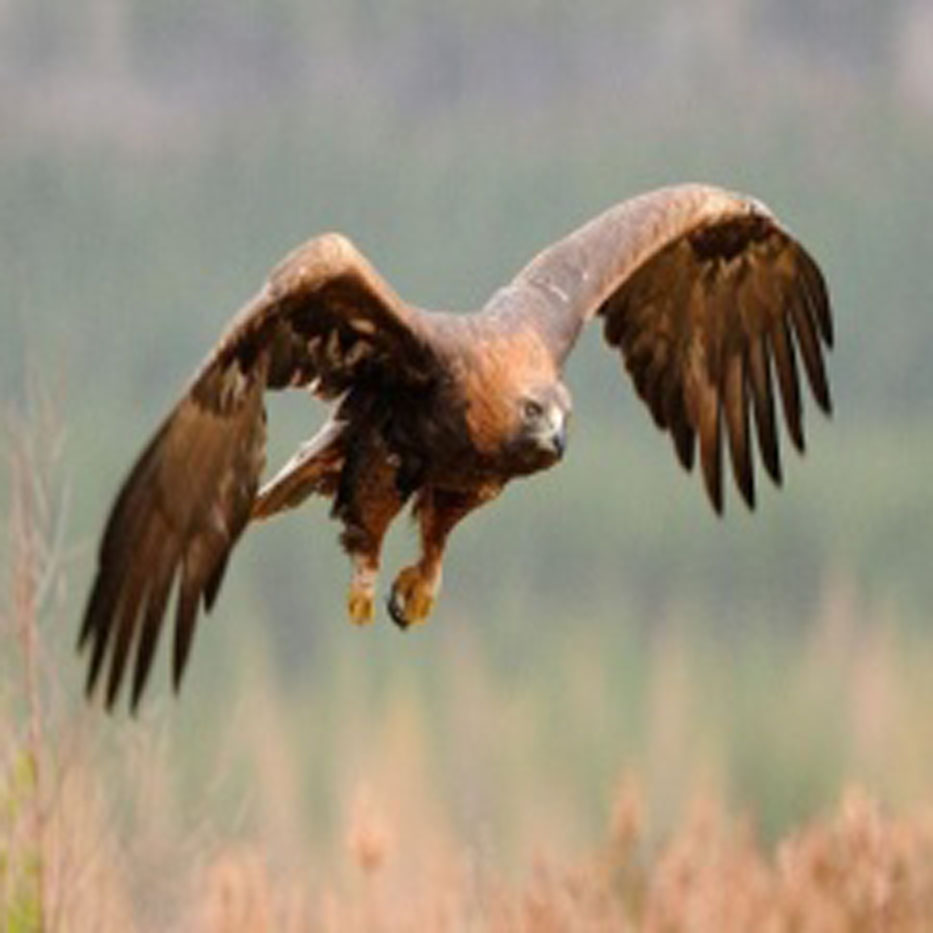Pengoyak Daging: (544, 424, 576, 473)
